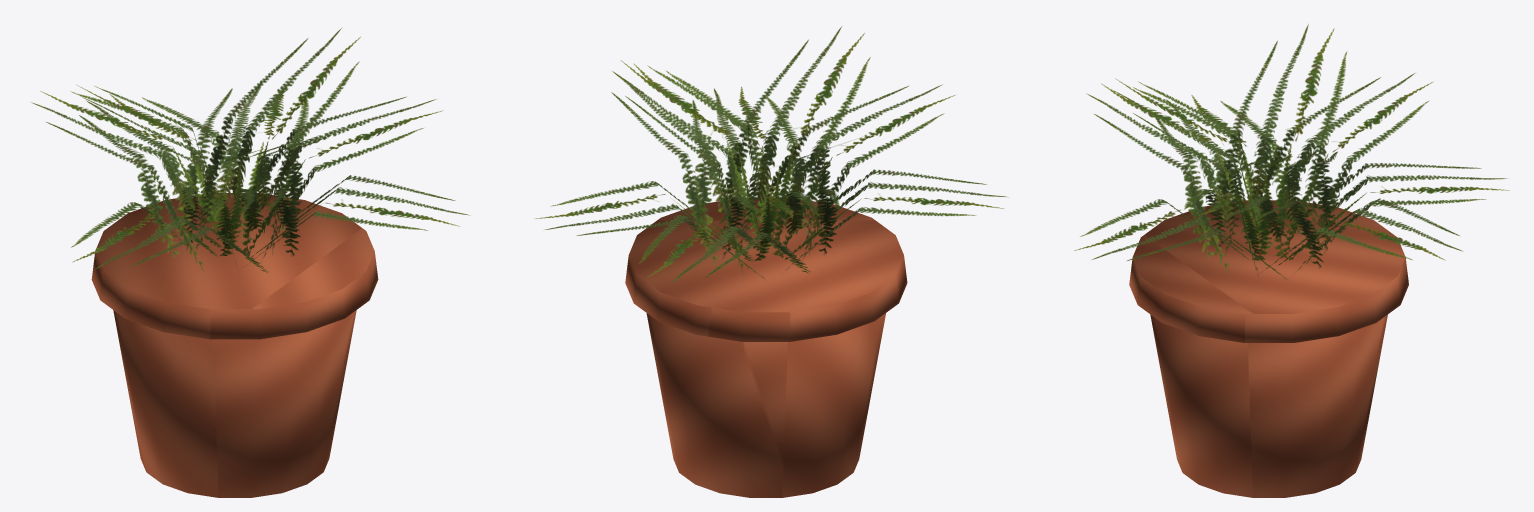
File: maceta_helecho.glb
3 renders of one model, left to right at view 1: azimuth 30°, elevation 25°; view 2: azimuth 150°, elevation 25°; view 3: azimuth 270°, elevation 25°, orthographic. The views are drawn at different scales.
Visible parts, largest first — view 1: maceta_helecho; view 2: maceta_helecho; view 3: maceta_helecho.
Part boxes in pixels (left/top/right/bottom): maceta_helecho: left=31, top=28, right=469, bottom=497; maceta_helecho: left=535, top=26, right=1008, bottom=497; maceta_helecho: left=1074, top=24, right=1509, bottom=497.
Size of the model in its own units: 0.6787 by 0.6065 by 0.69.
Materials: 3 (3 with a texture image).
